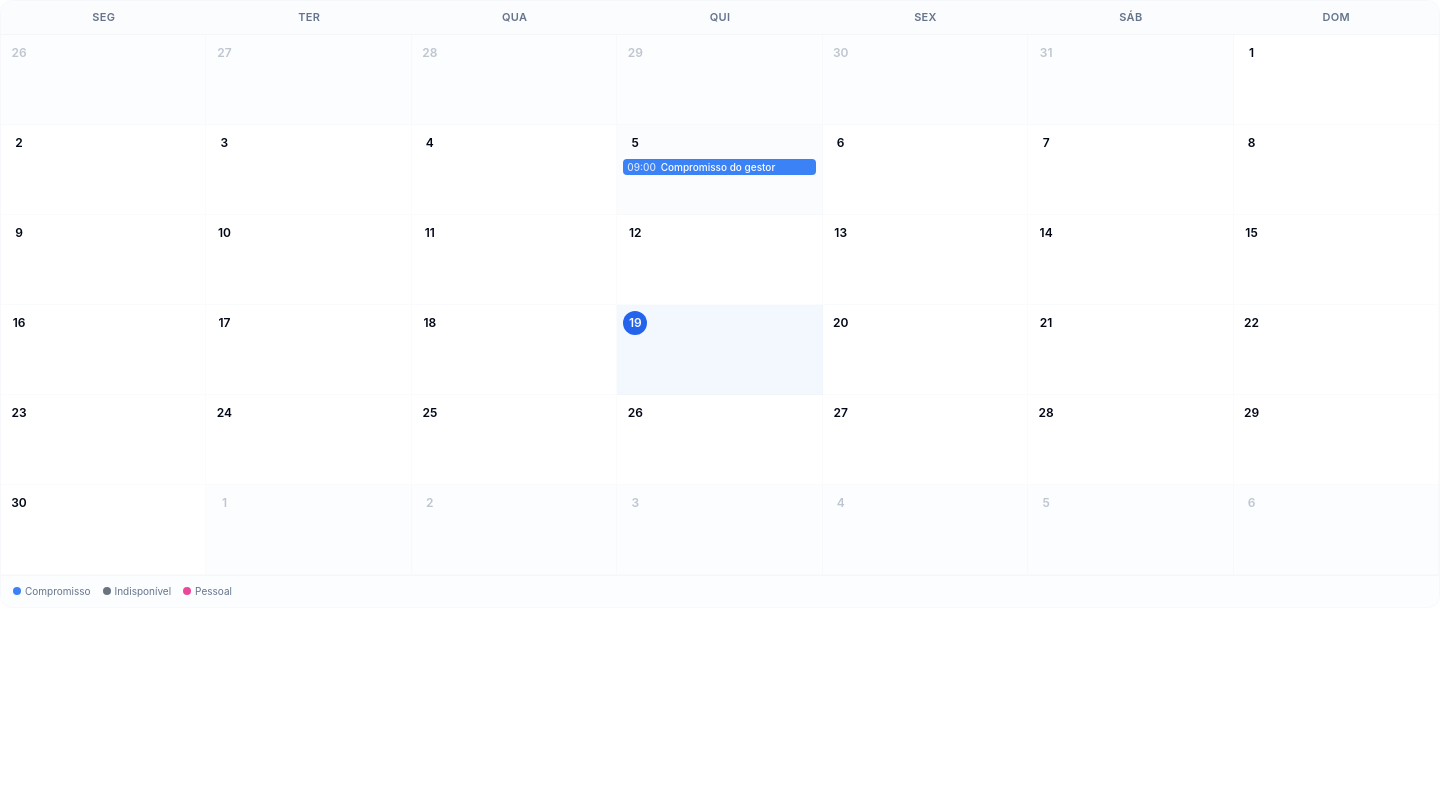
the answer gate requires an appointment (COLAB-16) › month grid: a pending unavailability event gets no answer actions
Click the text "Compromisso do gestor". click: {"x": 720, "y": 167}
box: x1=623 y1=158 x2=816 y2=175
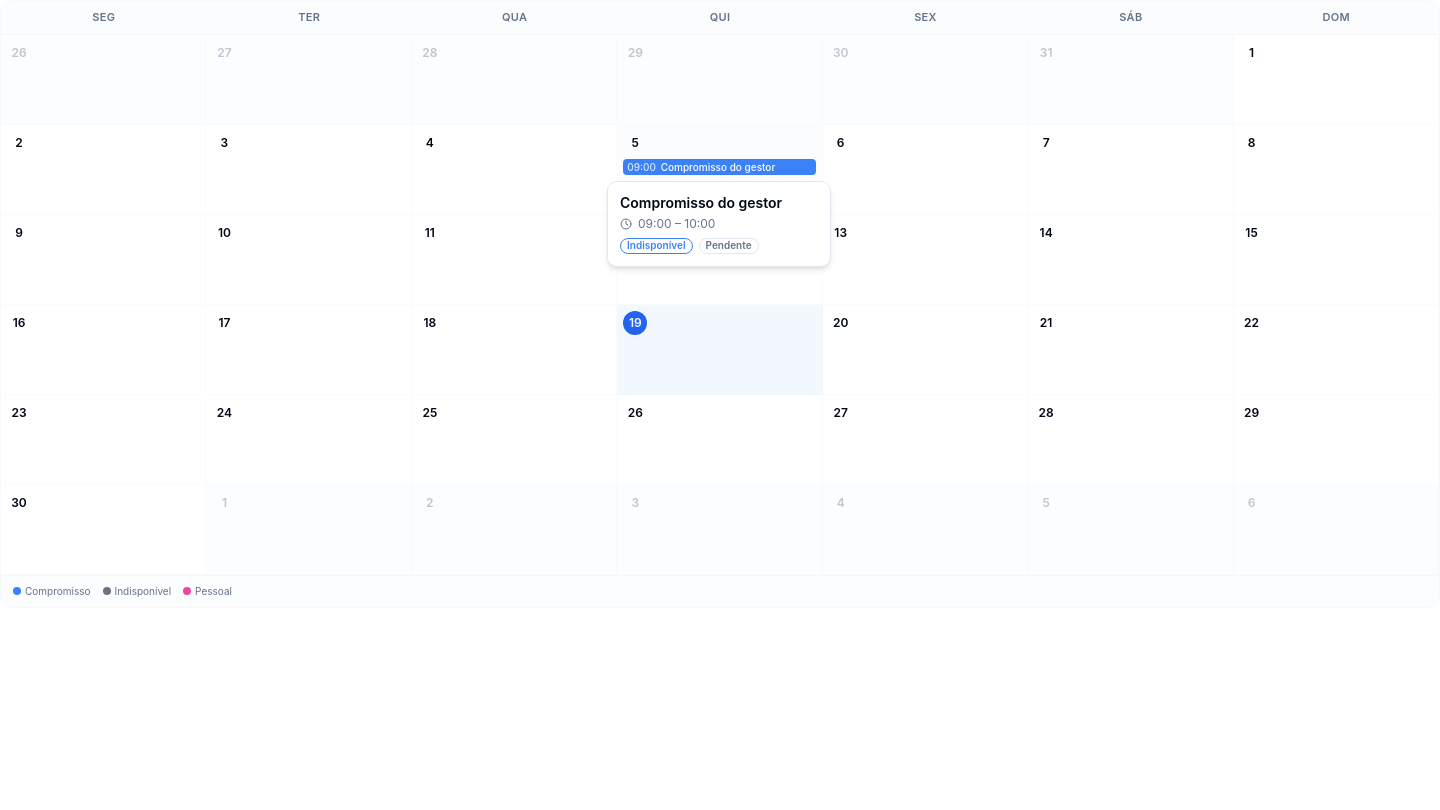
expect the text "Pendente" is shown: met, box x1=698 y1=238 x2=758 y2=254
